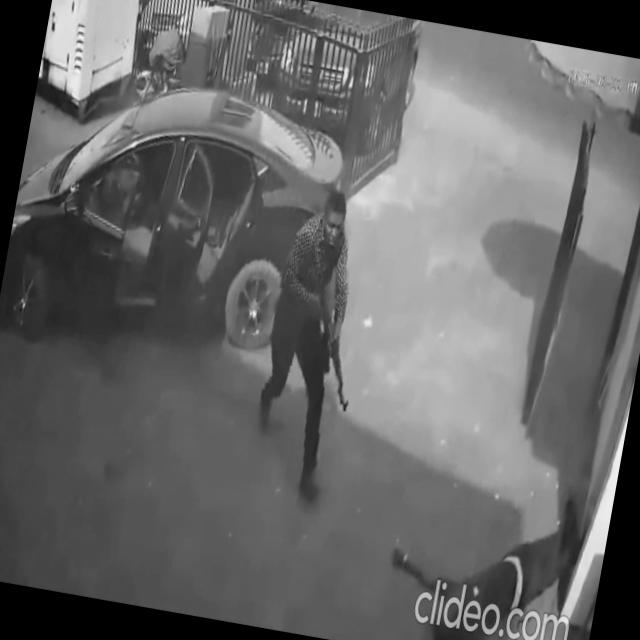gun: (291, 279, 372, 416)
person: (375, 462, 592, 640)
person with a gun: (241, 180, 388, 510)
